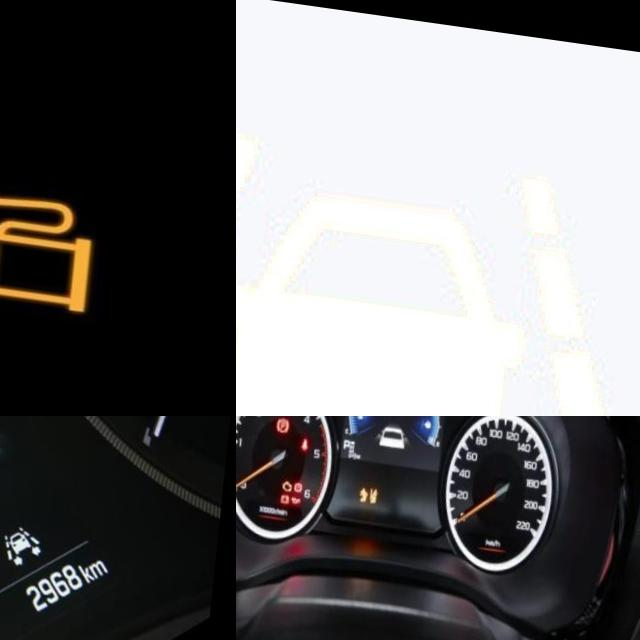Seat Belt: (307, 431, 315, 444)
